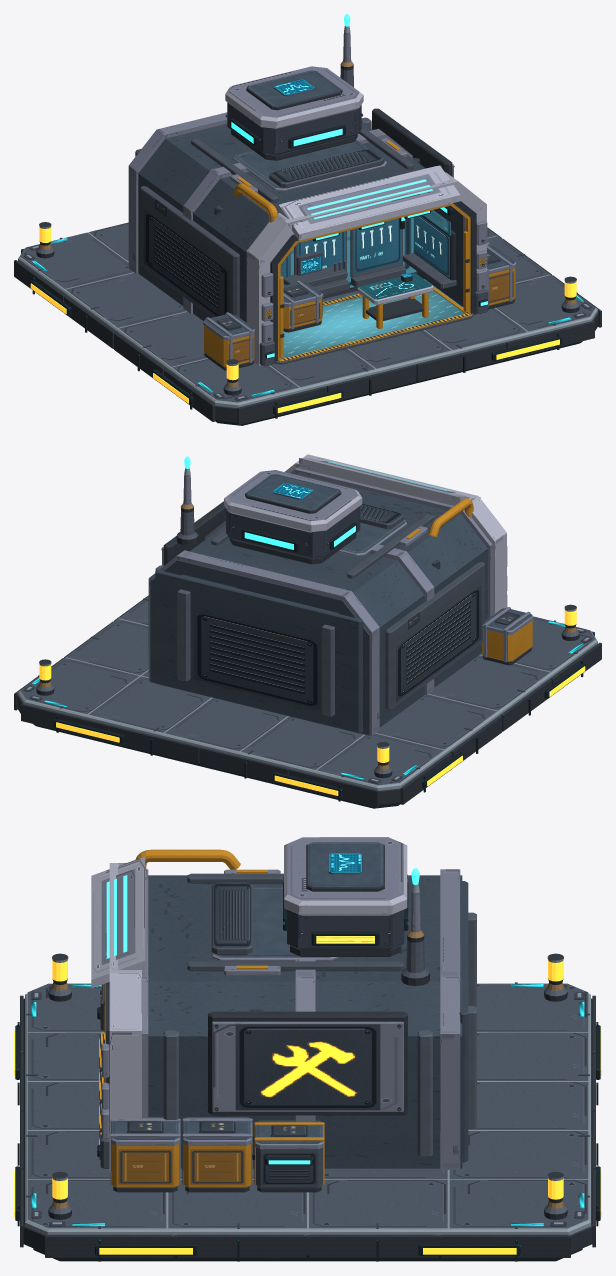
The model's file is TO01_TallerBasico.fbx.
3 views of the same model, one above another, from view 1: azimuth 30°, elevation 25°; view 2: azimuth 150°, elevation 25°; view 3: azimuth 270°, elevation 25° (orthographic). The views are drawn at different scales.
Visible parts, largest first — view 1: TallerDeObras_1; view 2: TallerDeObras_1; view 3: TallerDeObras_1.
Boxes of the visible parts, x1,y1,x2,y2 form: TallerDeObras_1: (14, 14, 601, 425); TallerDeObras_1: (14, 454, 601, 808); TallerDeObras_1: (14, 837, 601, 1261).
Bounding box in the file's own units: 5.9 × 3.48 × 5.72.
